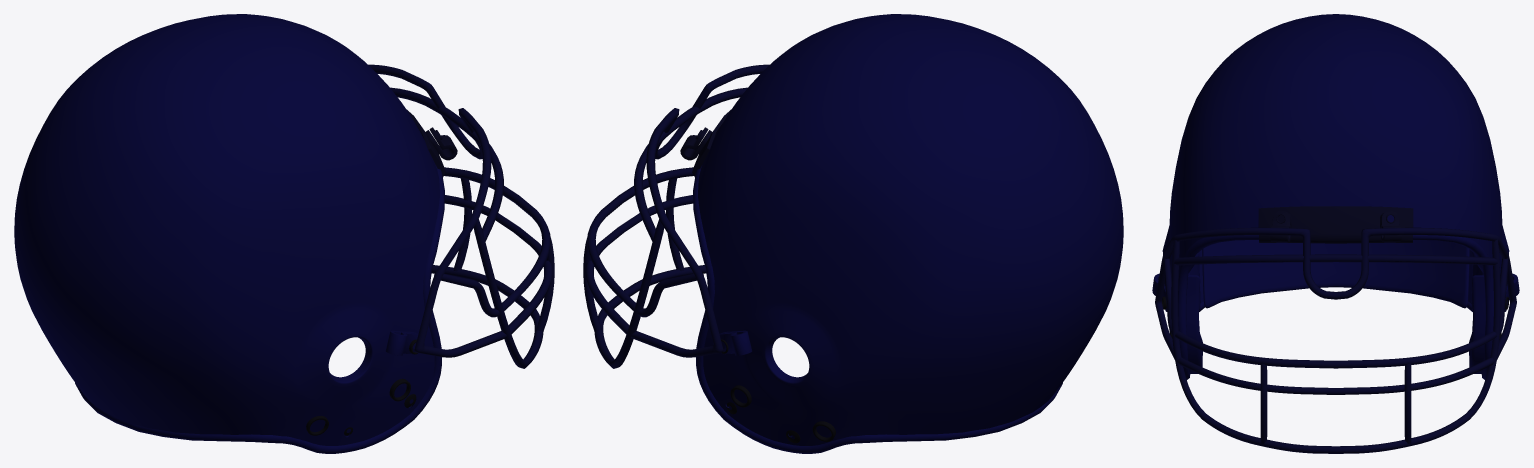
The model's file is helmet.obj.
3 renders of one model, left to right at view 1: azimuth 30°, elevation 25°; view 2: azimuth 150°, elevation 25°; view 3: azimuth 270°, elevation 25°, orthographic. The views are drawn at different scales.
Parts seen in each view (by area): view 1: football_helmet, helmet_spokes_football_helmet.001, helmet_topgaurd_football_helmet.004, football_helmet.002; view 2: football_helmet, helmet_spokes_football_helmet.001, helmet_topgaurd_football_helmet.004, football_helmet.002; view 3: football_helmet, helmet_spokes_football_helmet.001, helmet_topgaurd_football_helmet.004.
Boxes of the visible parts, left/top/right/bottom form: football_helmet: left=14, top=14, right=444, bottom=453; helmet_spokes_football_helmet.001: left=368, top=64, right=554, bottom=368; helmet_topgaurd_football_helmet.004: left=406, top=109, right=457, bottom=176; football_helmet.002: left=306, top=339, right=417, bottom=435; football_helmet: left=693, top=14, right=1123, bottom=453; helmet_spokes_football_helmet.001: left=583, top=64, right=769, bottom=368; helmet_topgaurd_football_helmet.004: left=680, top=109, right=731, bottom=176; football_helmet.002: left=721, top=339, right=835, bottom=443; football_helmet: left=1152, top=14, right=1519, bottom=379; helmet_spokes_football_helmet.001: left=1155, top=227, right=1516, bottom=453; helmet_topgaurd_football_helmet.004: left=1258, top=206, right=1413, bottom=243.
Size of the model in its own units: 6.76 by 4.88 by 5.1.
